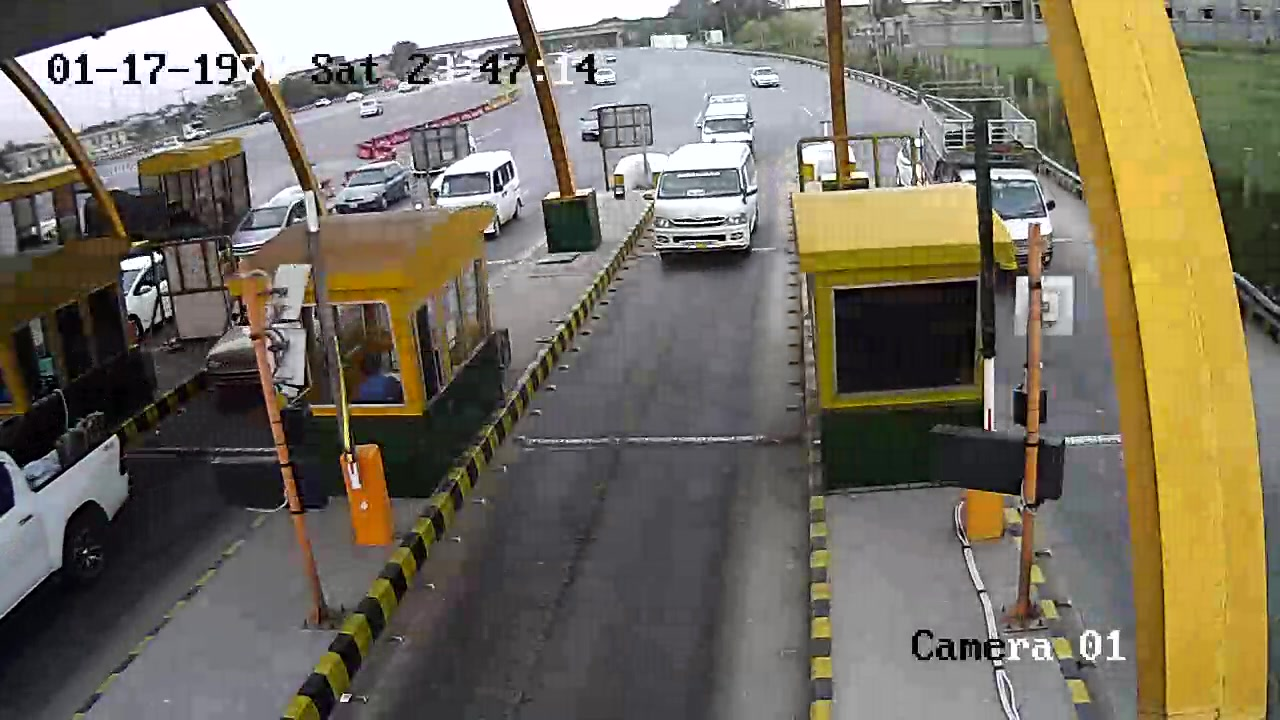F3: (647, 139, 757, 267)
